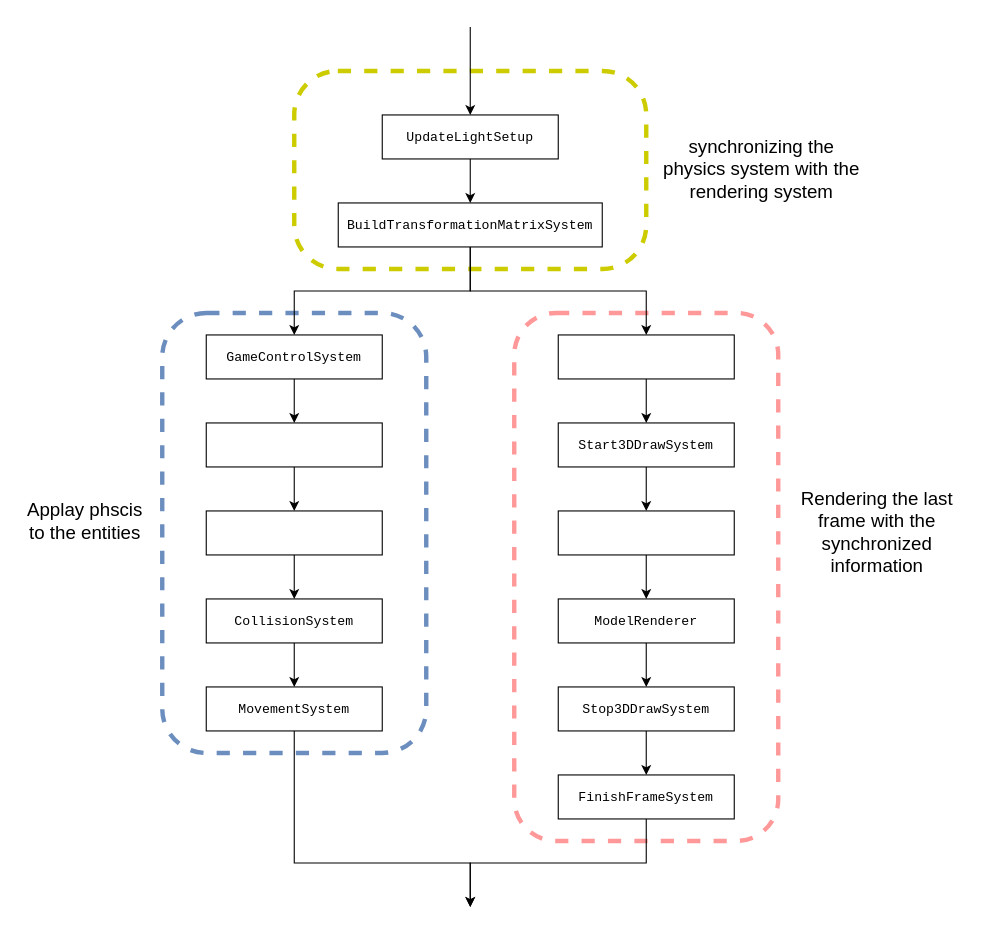
The diagram is 994 pixels wide and 935 high, and some of its shapes have lost their labels. The shapes that lost their labels are listed below. From the top down, each one's centre as x and y in pixels, then its label:
At (645,356): "PrepareFrameSystem".
At (293,444): "VelocityToEntityAxis".
At (293,532): "GravitySystem".
At (645,532): "StandardRenderSystem".
